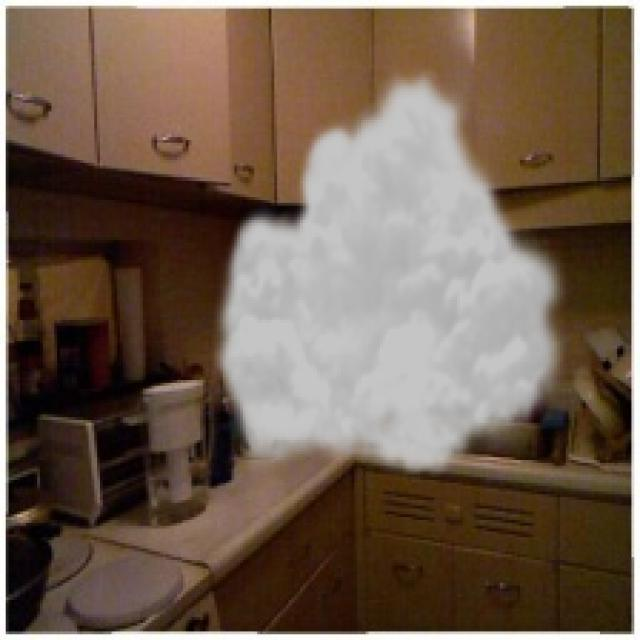Smoke: (208, 63, 574, 480)
